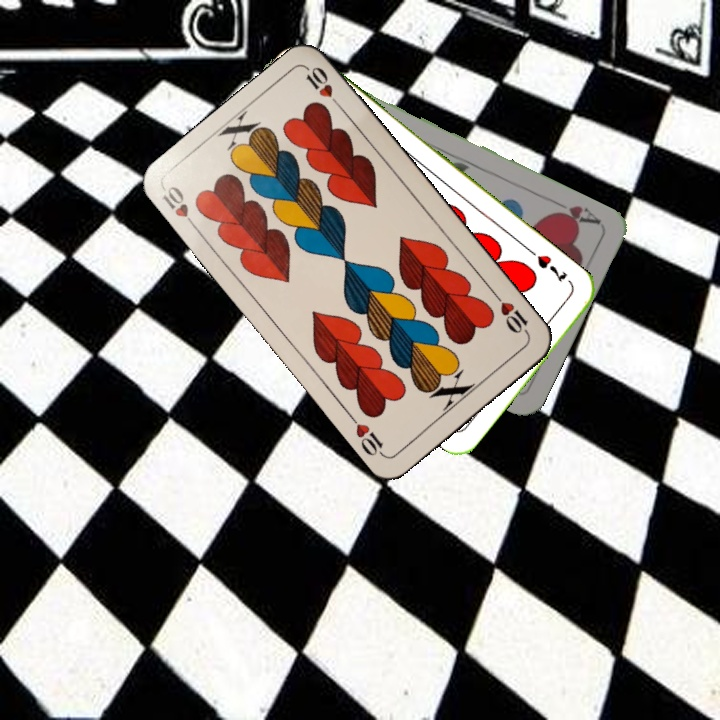H10: (157, 182, 201, 234), (489, 289, 532, 338)
H7: (532, 251, 570, 286)
HA: (547, 195, 603, 229)
